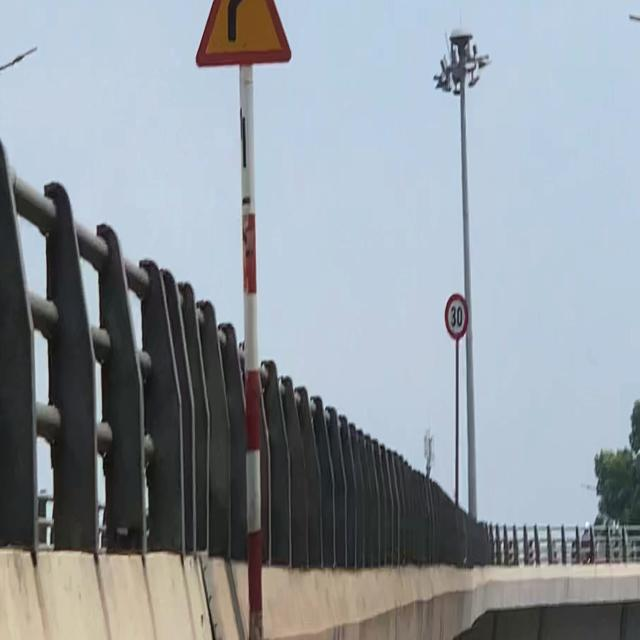Nguy hiem: (192, 0, 293, 70)
Toc do toi da: (444, 288, 471, 340)
